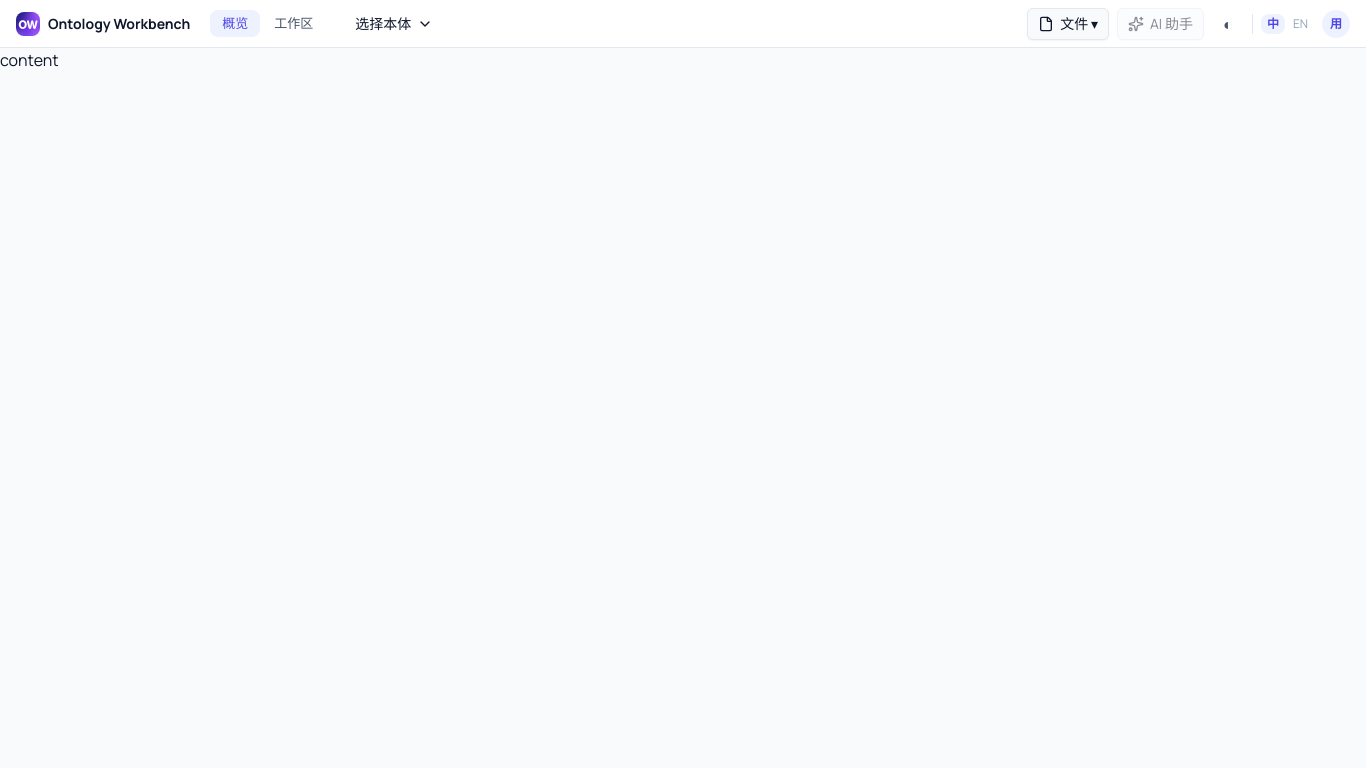
Scenario: renders nav and opens the import dialog
Expected: the text "Ontology Workbench" is shown, [48,14,190,34]
Expected: the text "content" is shown, [0,49,59,71]
Step 1. Click the button "文件 ▾" → (1068, 24), box [1027,8,1109,40]
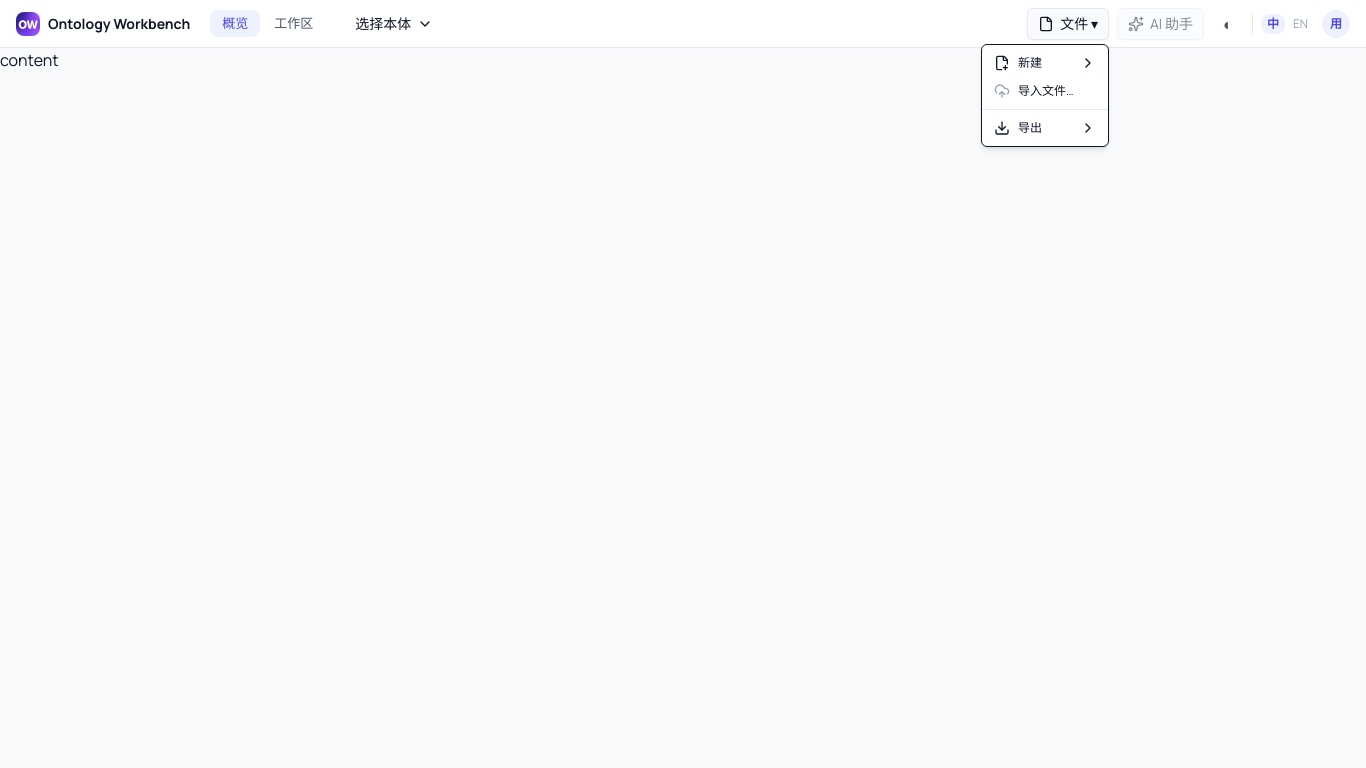
Step 2. Click the menu item "导入文件…" → (1034, 90), box [994,82,1074,99]
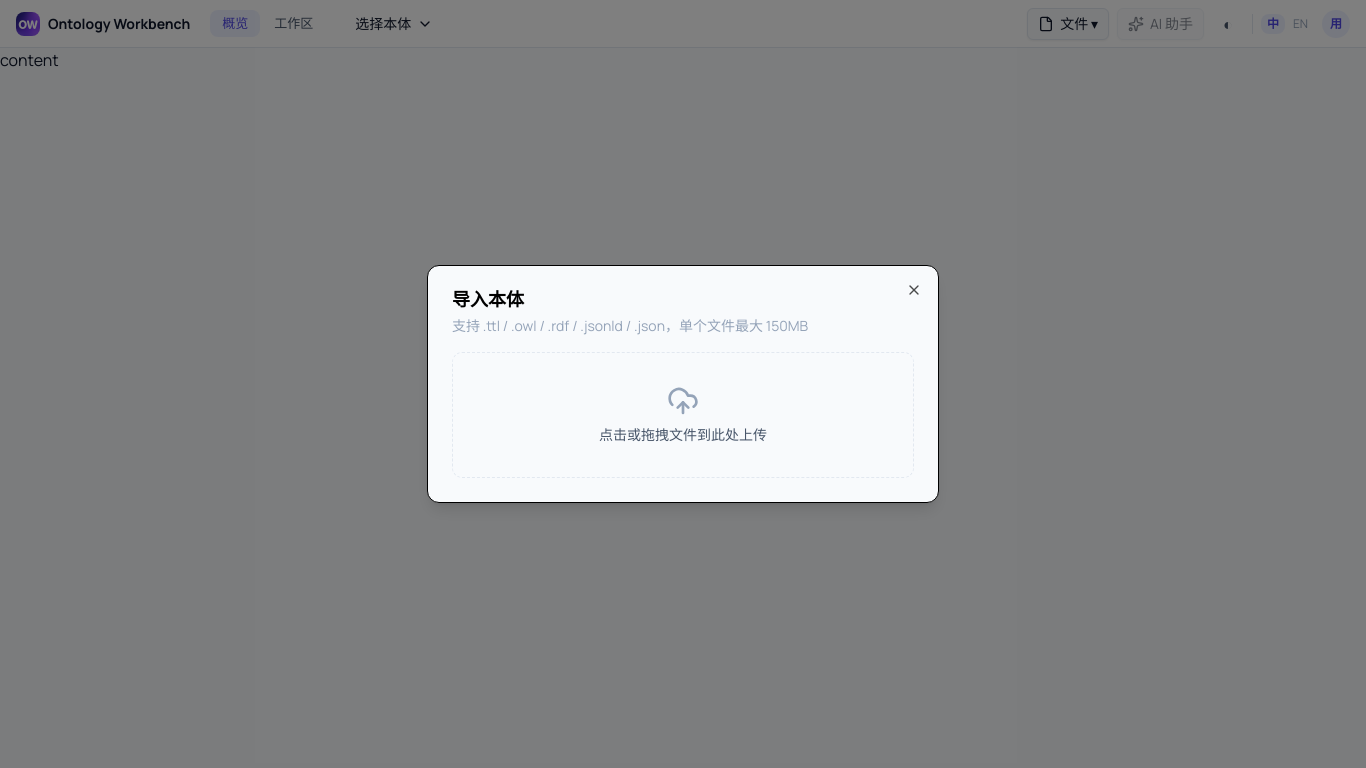
Expected: the dialog is shown, [427,265,939,503]
